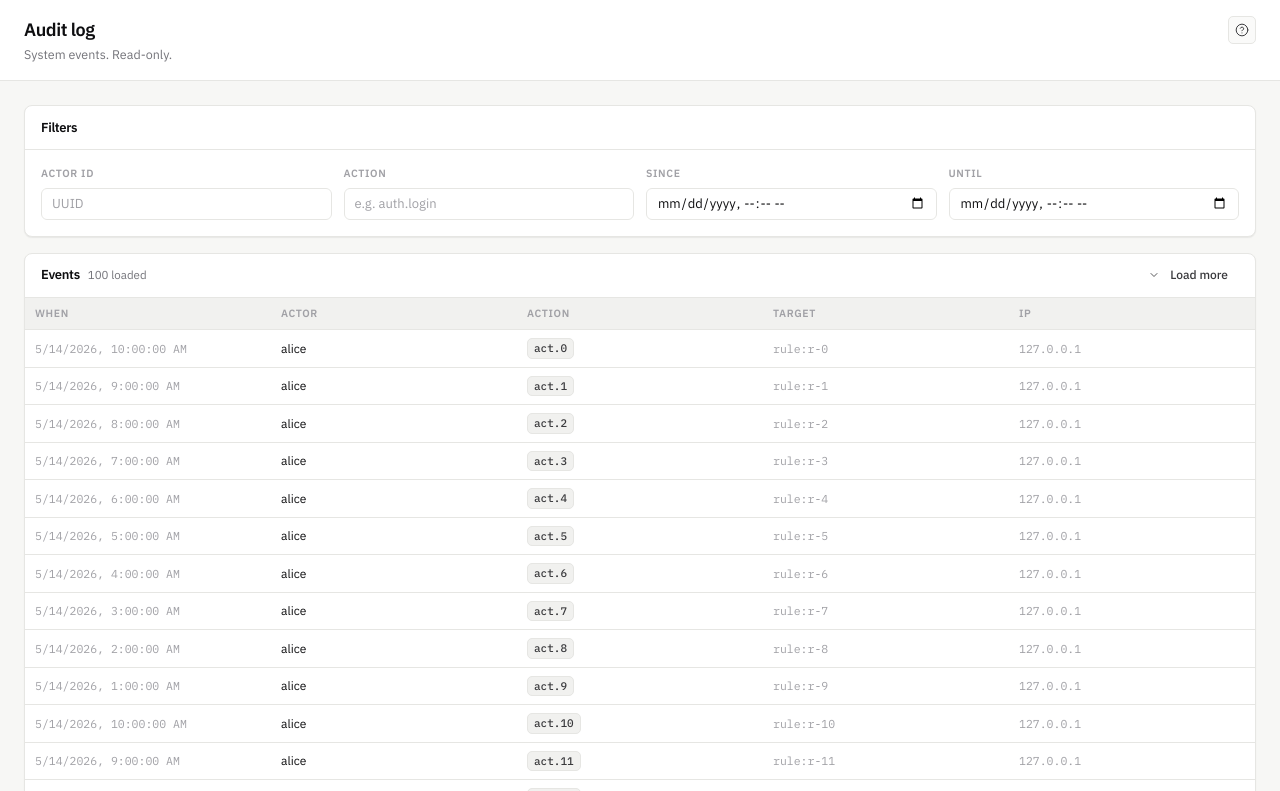
Test case: Stage 14 — AuditLogPage › renders the initial page and appends on Load more without duplicating
Check: the text "act.0" is shown, box [527,338,574,359]
Load more.
Click the button "Load more" at (1188, 275), box [1137,261,1239,289]
(page scrolled)
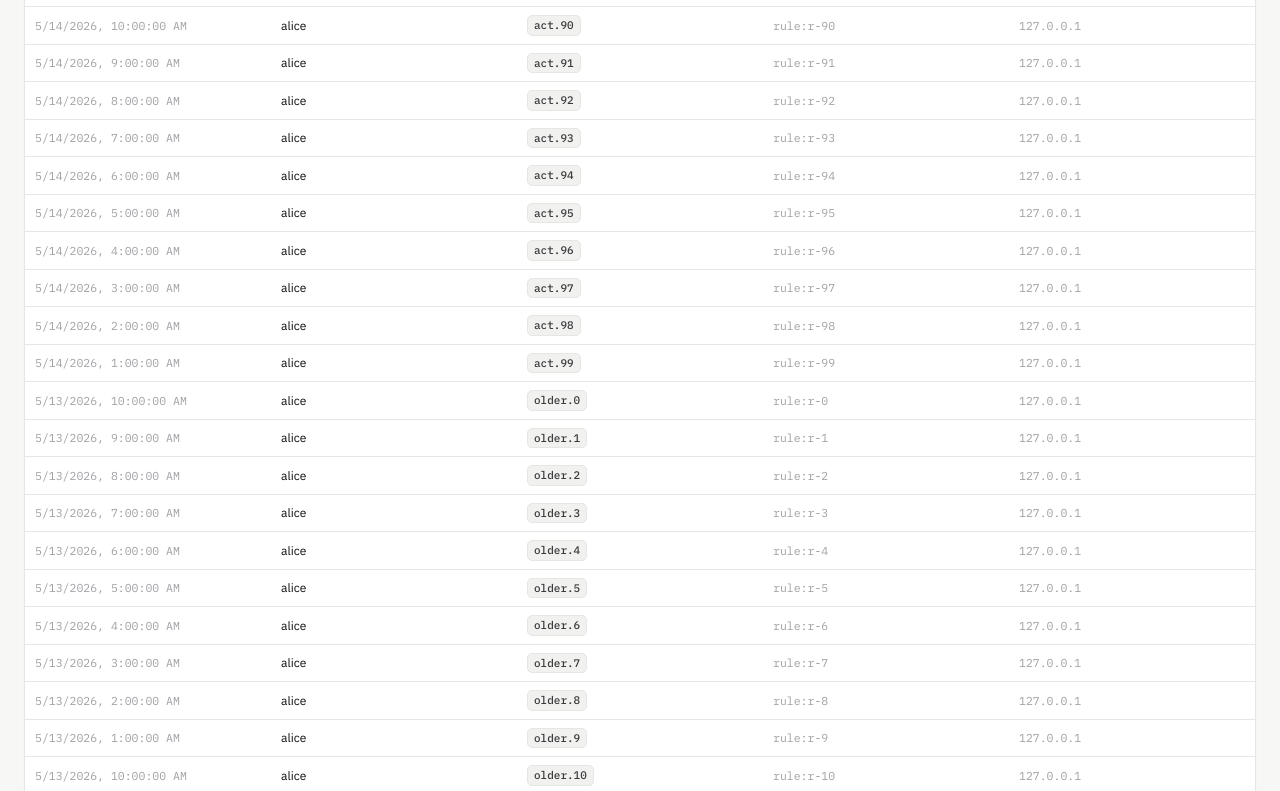
Check: the text "older.0" is shown, box [527,390,587,411]
